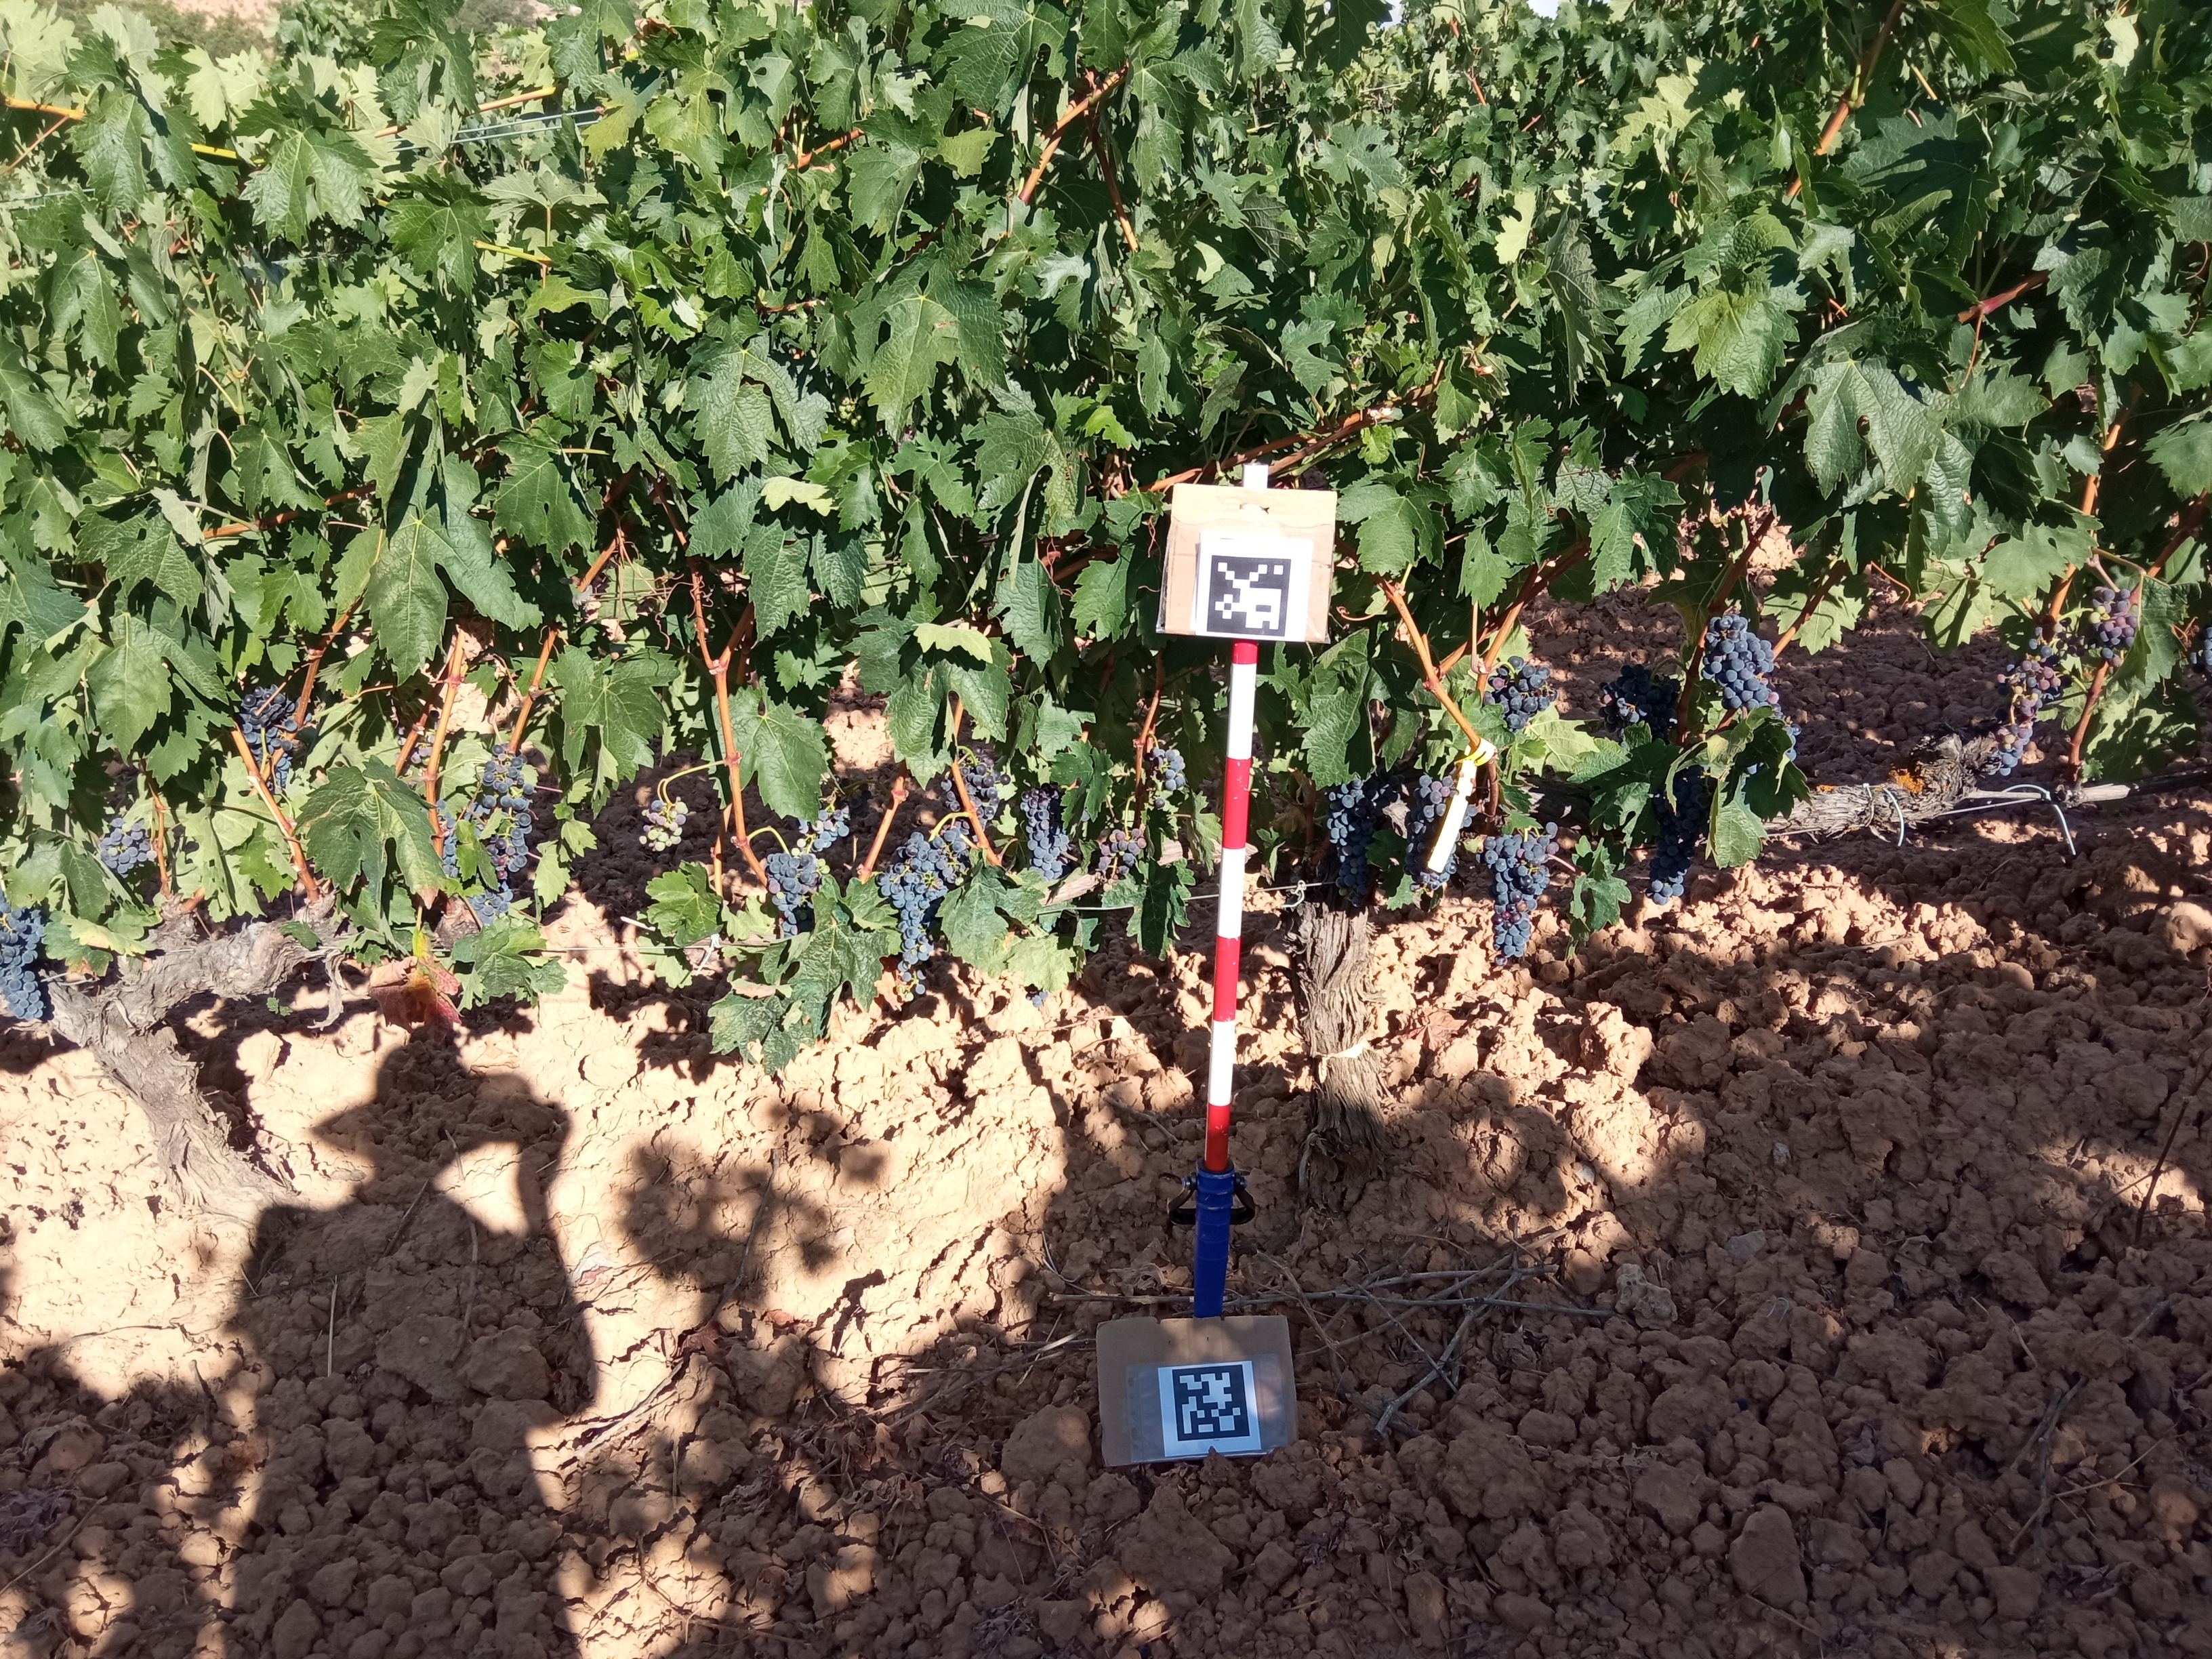grapes: (876, 823, 972, 1004), (1325, 758, 1409, 915), (1984, 631, 2066, 777), (1482, 821, 1559, 969), (1646, 767, 1716, 910), (1409, 767, 1479, 894), (1700, 615, 1785, 709), (479, 744, 533, 878), (0, 884, 51, 1021), (1487, 652, 1559, 730), (1599, 662, 1679, 732), (937, 755, 1005, 836), (761, 852, 826, 938), (242, 685, 296, 786), (1021, 782, 1071, 880), (2088, 586, 2142, 667), (794, 800, 859, 852), (1148, 741, 1193, 812), (105, 816, 155, 877), (641, 798, 697, 852), (1096, 826, 1146, 875), (437, 800, 462, 885), (474, 884, 519, 913), (1787, 713, 1803, 765)
